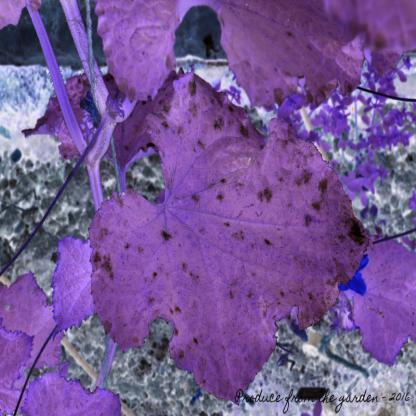Squash Powdery mildew leaf: (90, 69, 367, 400)
